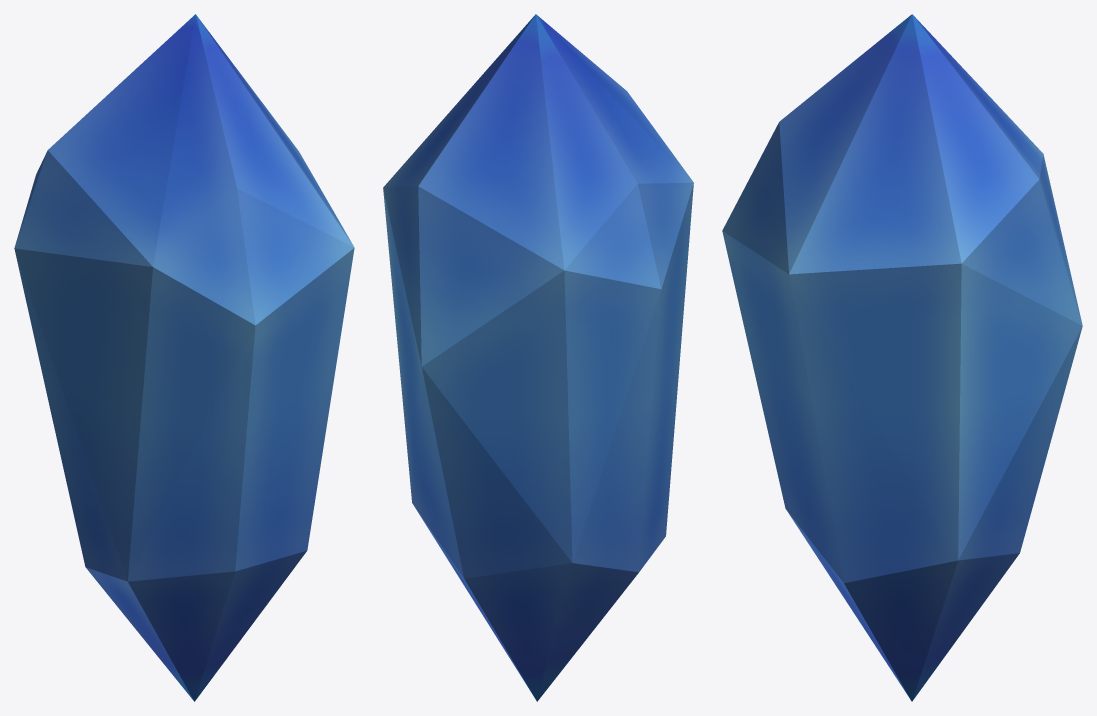
The model's file is sb_obj_ruins007_FloatingCrystal.fbx.
3 renders of one model, left to right at view 1: azimuth 30°, elevation 25°; view 2: azimuth 150°, elevation 25°; view 3: azimuth 270°, elevation 25°, orthographic.
Visible parts, largest first — view 1: sb_obj_ruins007_FloatingCrystal; view 2: sb_obj_ruins007_FloatingCrystal; view 3: sb_obj_ruins007_FloatingCrystal.
Boxes of the visible parts, box(x1,y1,x2,y2) form: sb_obj_ruins007_FloatingCrystal: box(14, 14, 354, 701); sb_obj_ruins007_FloatingCrystal: box(383, 14, 693, 701); sb_obj_ruins007_FloatingCrystal: box(722, 14, 1082, 701).
Size of the model in its own units: 0.8532 by 1.99 by 0.9449.
